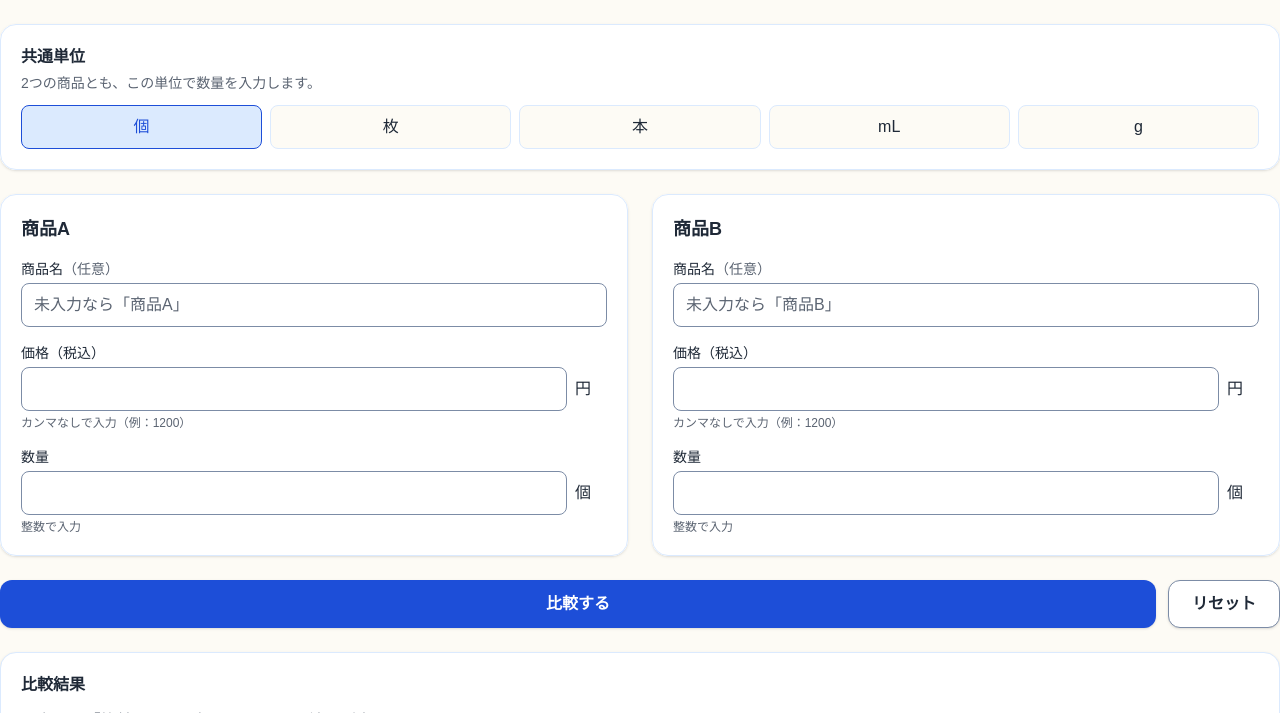
Test: UnitPriceComparer：比較と結果表示 › 1,200円／50個と1,800円／100個 → 24円と18円、商品Bが1個あたり6円安い
Type "1200" into the field labelled "価格（税込）" below "商品A" at (294, 389), box [21,367,567,411]
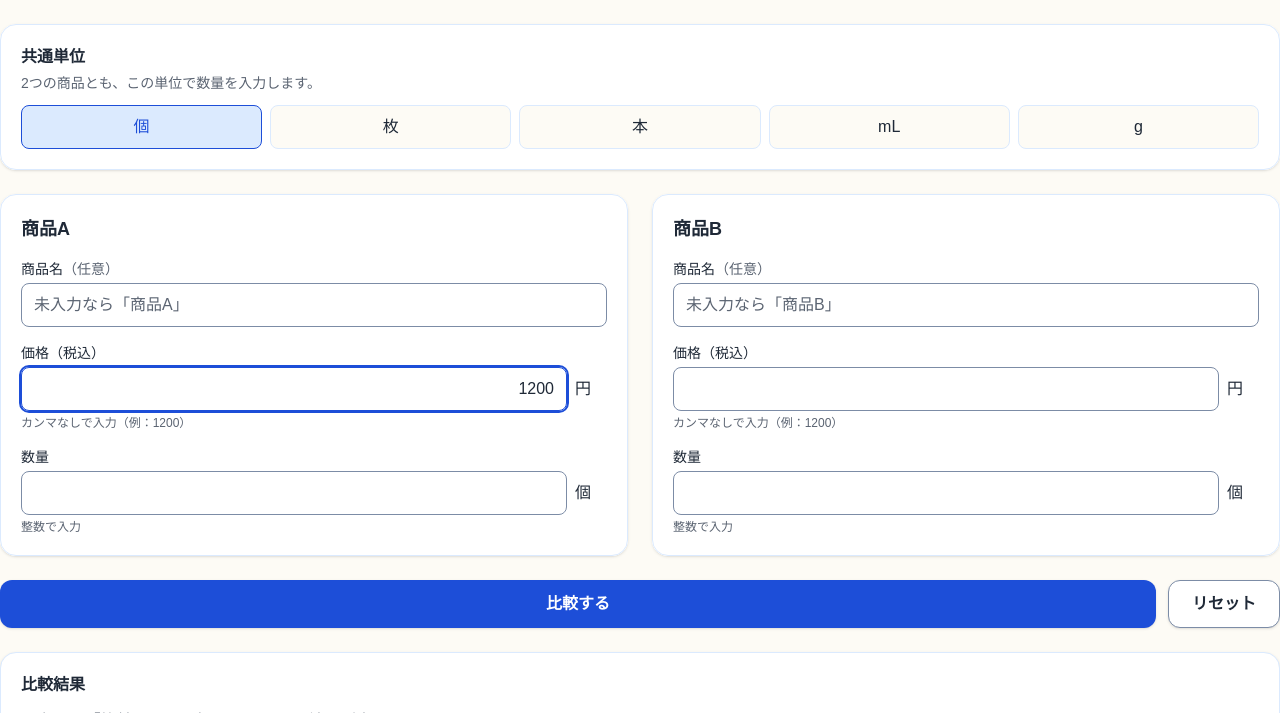
Type "50" into the field labelled "数量" below "商品A" at (294, 493), box [21,471,567,515]
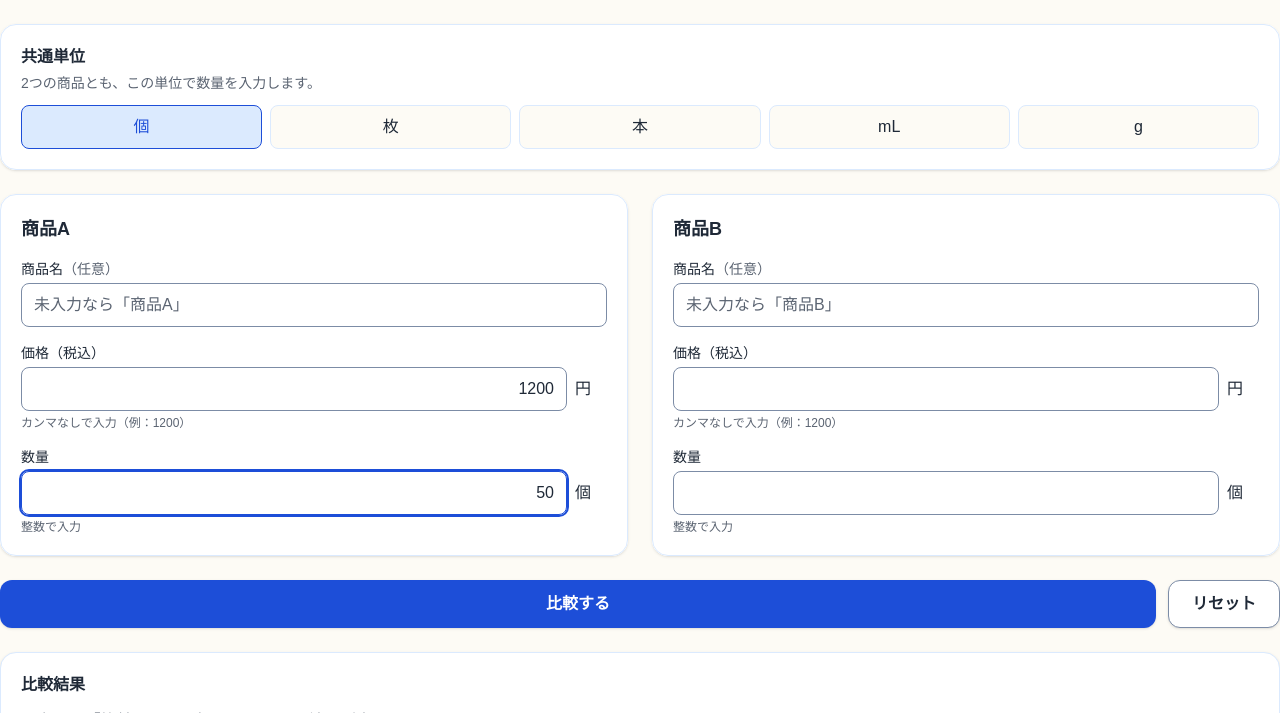
Type "1800" into the field labelled "価格（税込）" below "商品B" at (946, 389), box [673,367,1219,411]
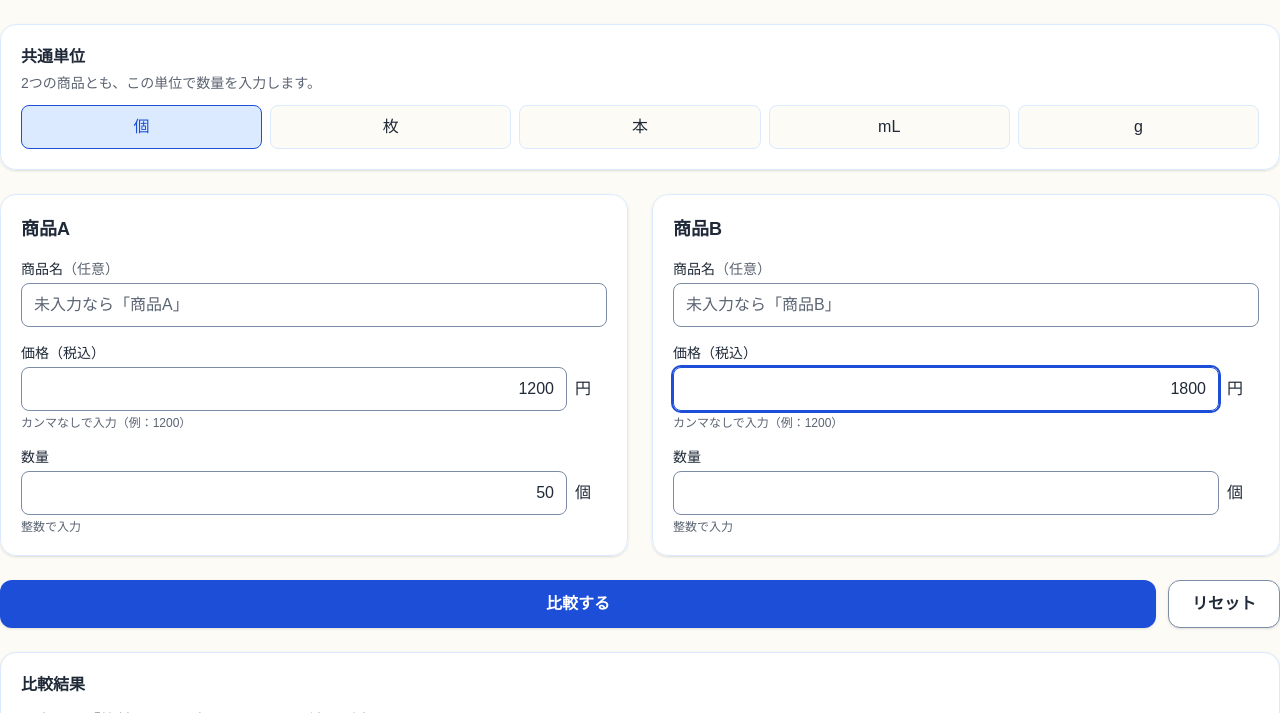
Type "100" into the field labelled "数量" below "商品B" at (946, 493), box [673,471,1219,515]
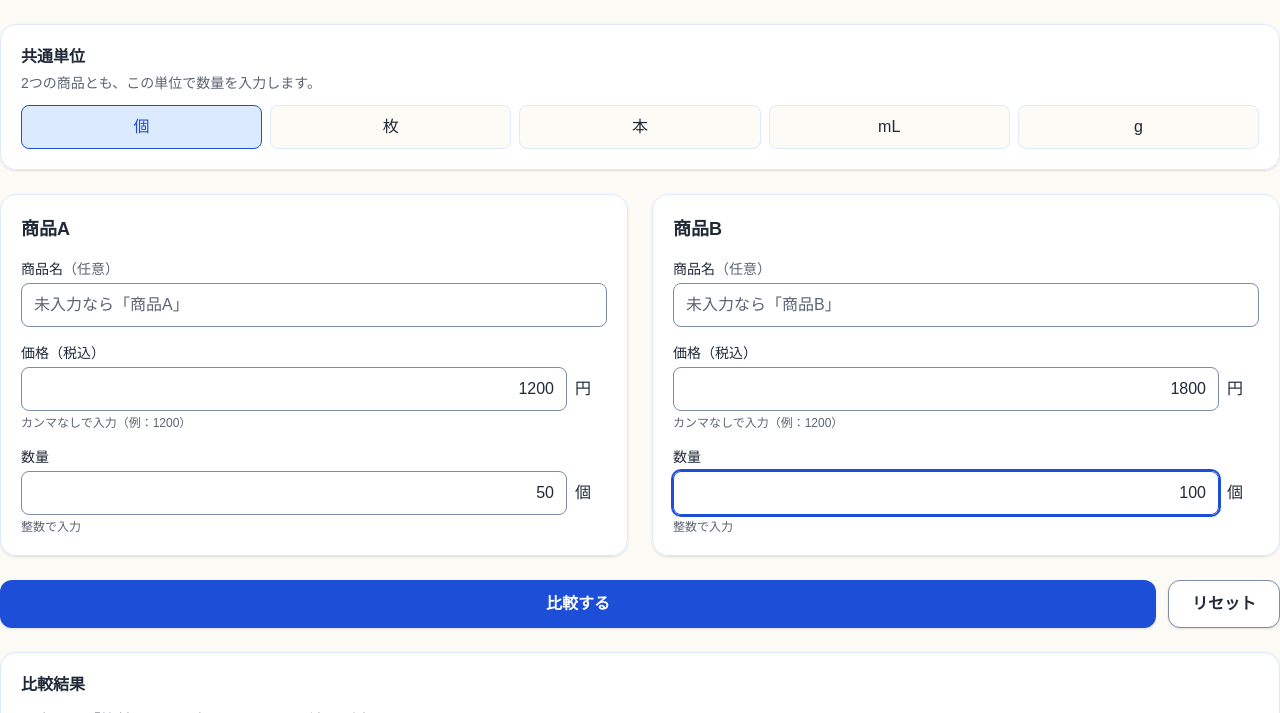
Click the button "比較する" at (578, 604), box [0,580,1156,628]
(page scrolled)
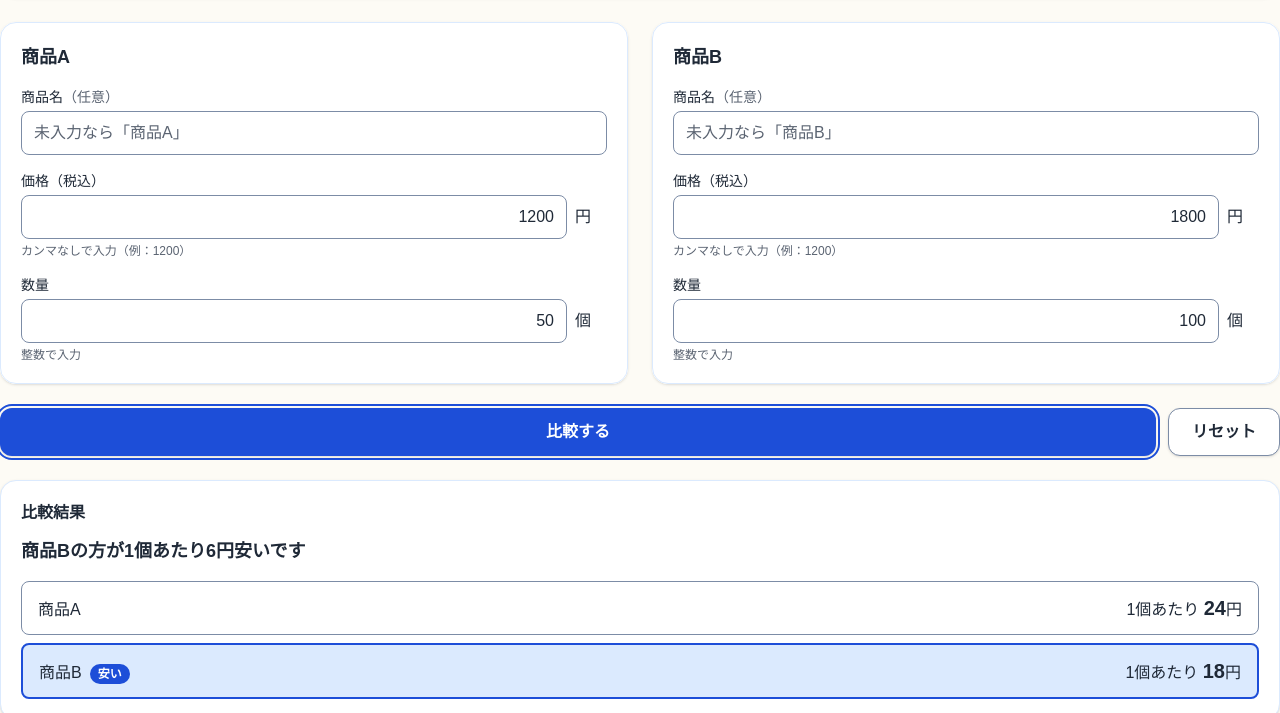
Result: the text "商品Bの方が1個あたり6円安いです" is shown at [21,541,306,561]
Result: the list item "商品A 1個あたり 24円" is shown at [21,581,1259,635]
Result: the list item "商品B 安い 1個あたり 18円" is shown at [21,643,1259,699]
